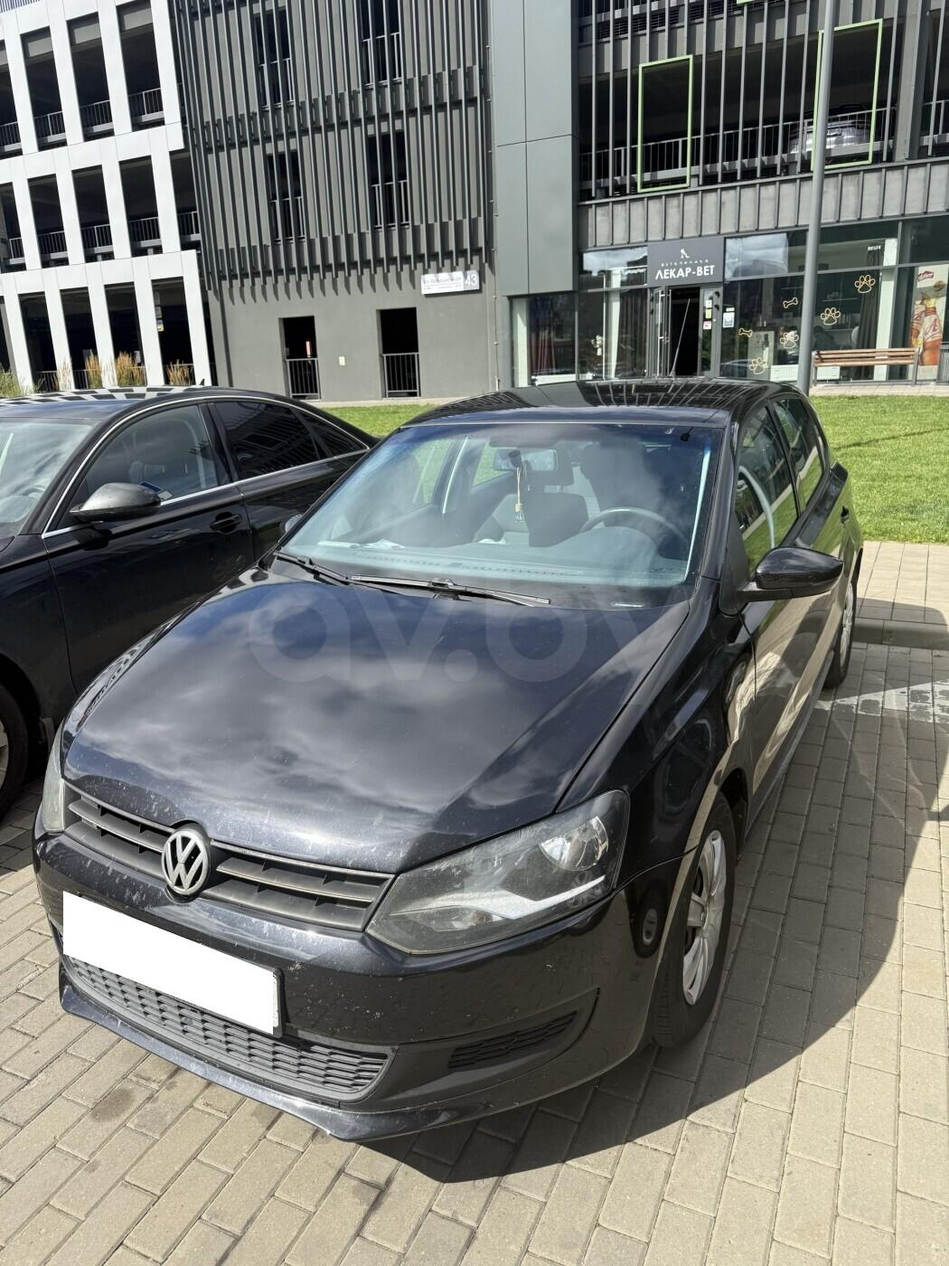Polo_2009-2015: (0, 372, 859, 1162)
